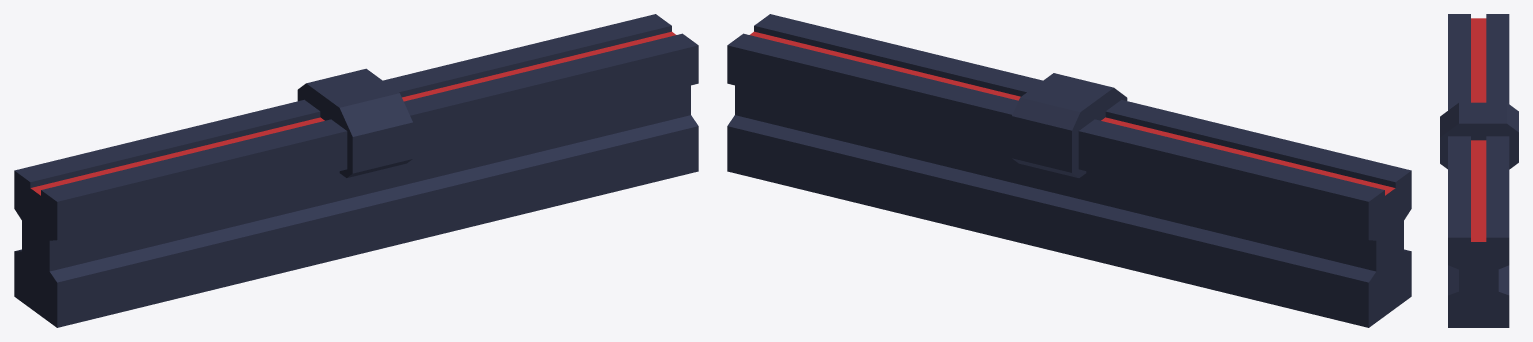
Rendered from Railing.fbx.
3 views of the same model, side by side, from view 1: azimuth 30°, elevation 25°; view 2: azimuth 150°, elevation 25°; view 3: azimuth 270°, elevation 25° (orthographic). The views are drawn at different scales.
Visible parts, largest first — view 1: Railing; view 2: Railing; view 3: Railing.
Boxes of the visible parts, x1,y1,x2,y2 form: Railing: (14, 14, 698, 327); Railing: (727, 14, 1411, 327); Railing: (1440, 14, 1518, 327).
Size of the model in its own units: 701 by 150 by 104.
